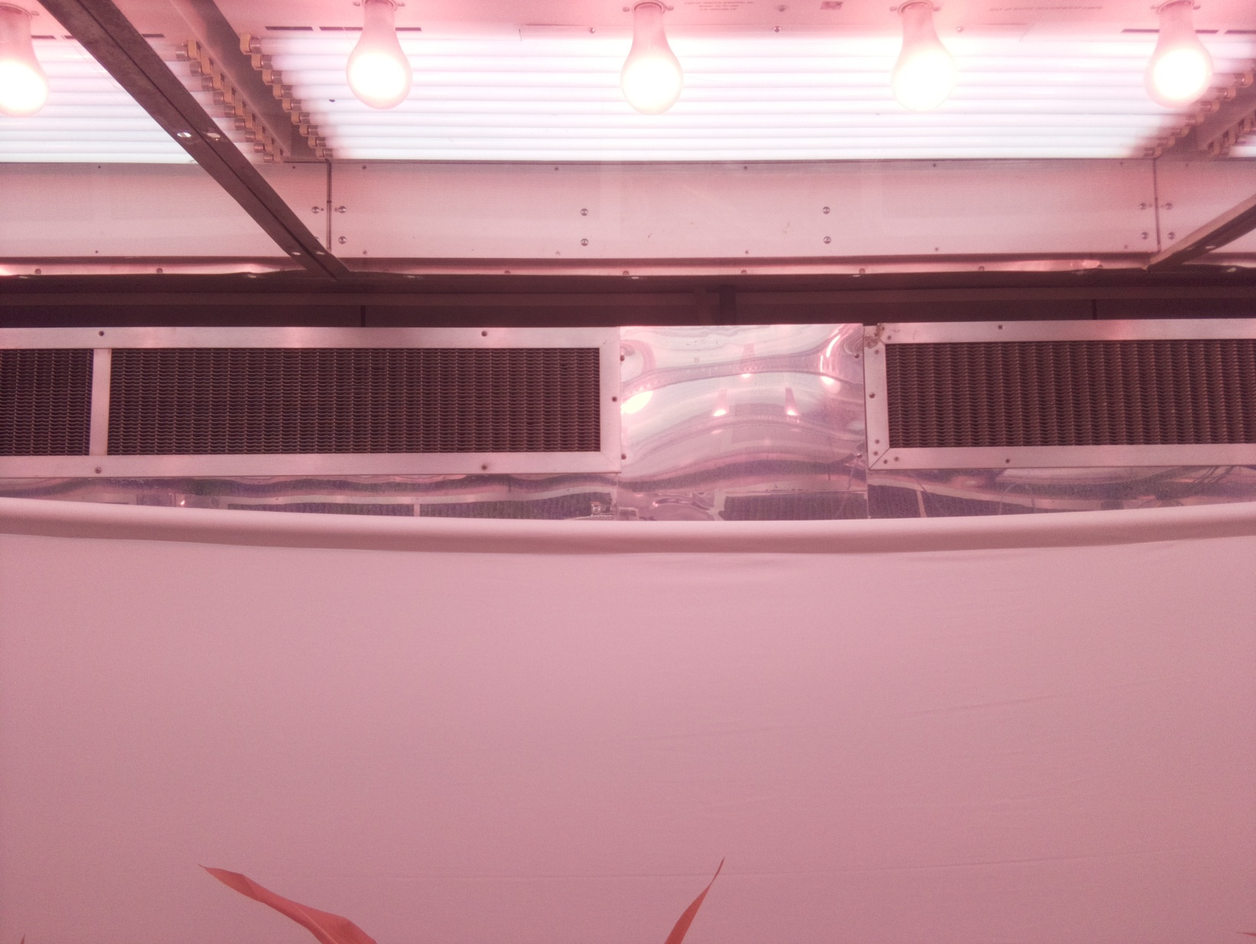maize: (198, 854, 726, 944)
